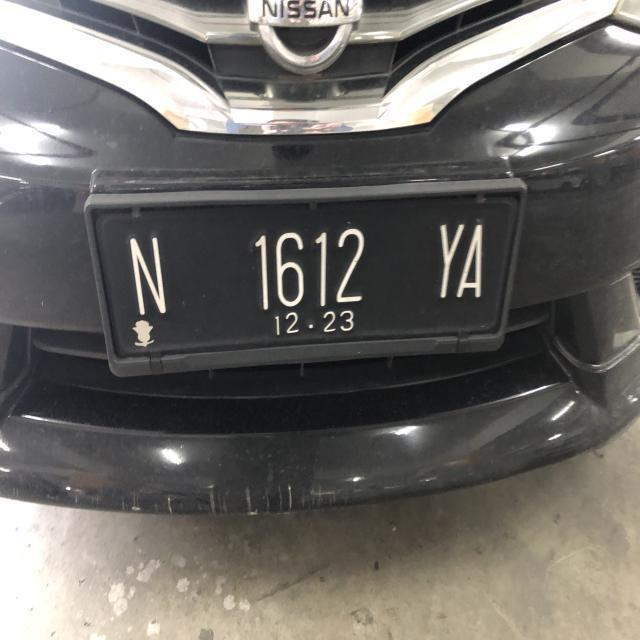1: (247, 223, 276, 312), (305, 226, 337, 305)
2: (333, 228, 368, 314)
6: (274, 234, 306, 308)
A: (454, 216, 492, 312)
N: (120, 230, 176, 318)
Y: (428, 212, 465, 301)
